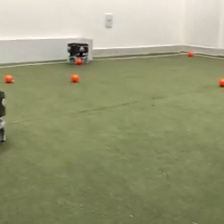ball: (70, 72, 80, 82), (4, 73, 13, 83), (75, 55, 83, 64), (218, 76, 224, 87), (187, 48, 194, 57)
goal: (1, 36, 95, 65)
robot: (65, 41, 90, 65)
